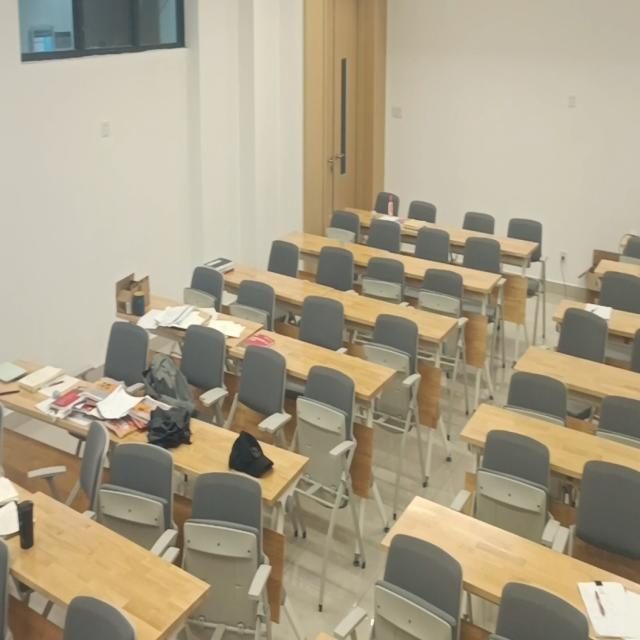Non-empty: (377, 492, 640, 640), (3, 489, 212, 640), (114, 399, 314, 502), (0, 351, 144, 444), (233, 329, 397, 396), (115, 286, 260, 349), (200, 259, 335, 306), (336, 205, 443, 239), (554, 298, 640, 335), (0, 470, 35, 533)
empty: (462, 403, 638, 495), (310, 286, 459, 347), (515, 344, 638, 404), (374, 250, 502, 296), (274, 228, 391, 267), (428, 224, 539, 259), (590, 257, 640, 287)
